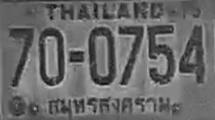0: (88, 26, 115, 84), (38, 27, 64, 85)
4: (178, 24, 205, 83)
5: (146, 24, 174, 84)
7: (8, 27, 34, 86), (118, 25, 143, 84)
SKM: (43, 91, 176, 120)
